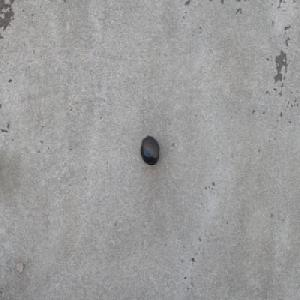FuelCap: (140, 135, 159, 166)
